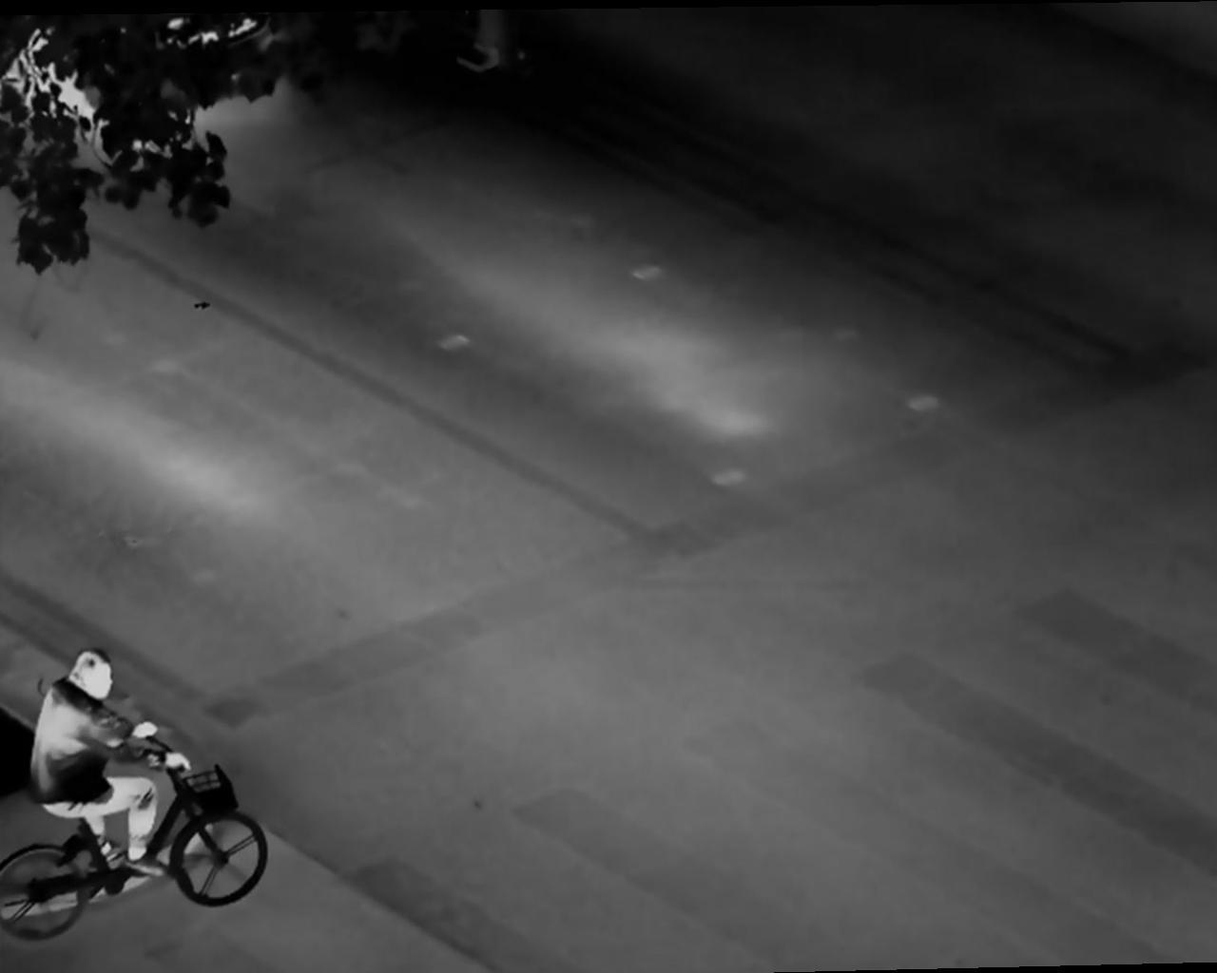person: (26, 642, 198, 887)
